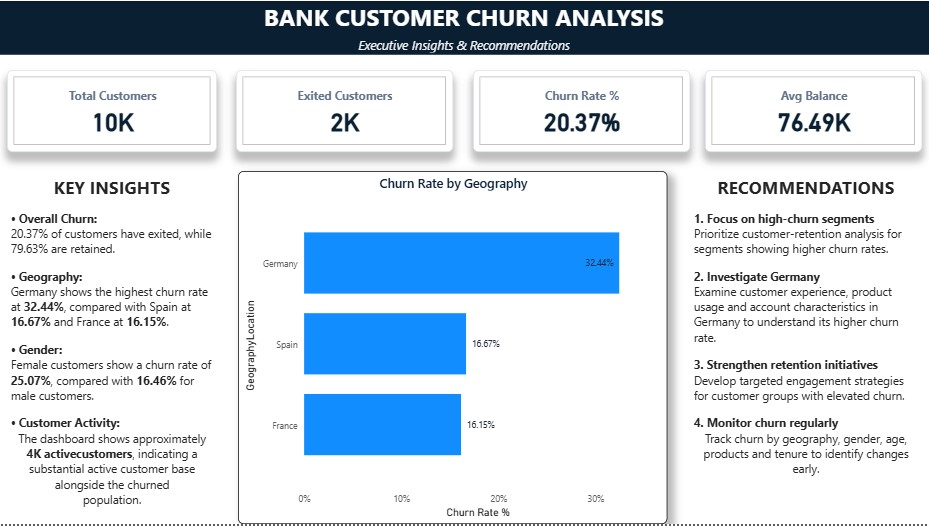

Layout of this report page (visuals, bound fields, positions):
{"tool":"powerbi","page":{"name":"Executive Insights & Recommendations","canvas":[1280,720],"ordinal":3},"visuals":[{"type":"cardVisual","fields":{"Data":["_Measures.Churn Rate %"]},"box":[652.4,95,298.7,112.9],"z":0},{"type":"cardVisual","fields":{"Data":["_Measures.Total Customers"]},"box":[11,95,289,112.9],"z":1000},{"type":"cardVisual","fields":{"Data":["_Measures.Avg Balance"]},"box":[971.7,95,298.7,112.9],"z":2000},{"type":"cardVisual","fields":{"Data":["_Measures.Exited Customers"]},"box":[326.2,95,298.7,112.9],"z":3000},{"type":"textbox","title":"BANK CUSTOMER CHURN ANALYSIS","box":[0,0,1280,74.4],"z":4000},{"type":"textbox","box":[11,234,289,485.8],"z":5000},{"type":"textbox","box":[950.9,233.7,319.2,486.3],"z":6000},{"type":"clusteredBarChart","title":"Churn Rate by Geography","fields":{"Y":["_Measures.Churn Rate %"],"Category":["Geography.GeographyLocation"]},"box":[328.8,233.7,590.9,486.3],"z":7000}]}

Visuals, with their boxes in screenshot pixels (x1, y1, x2, y2), scaled from the page's 1280x720 canvas onto the 929x530 screenshot:
cardVisual - _Measures.Churn Rate %: (x1=473, y1=70, x2=690, y2=153)
cardVisual - _Measures.Total Customers: (x1=8, y1=70, x2=218, y2=153)
cardVisual - _Measures.Avg Balance: (x1=705, y1=70, x2=922, y2=153)
cardVisual - _Measures.Exited Customers: (x1=237, y1=70, x2=454, y2=153)
"BANK CUSTOMER CHURN ANALYSIS" textbox: (x1=0, y1=0, x2=928, y2=55)
textbox: (x1=8, y1=172, x2=218, y2=529)
textbox: (x1=690, y1=172, x2=922, y2=529)
"Churn Rate by Geography" clusteredBarChart: (x1=239, y1=172, x2=668, y2=529)
